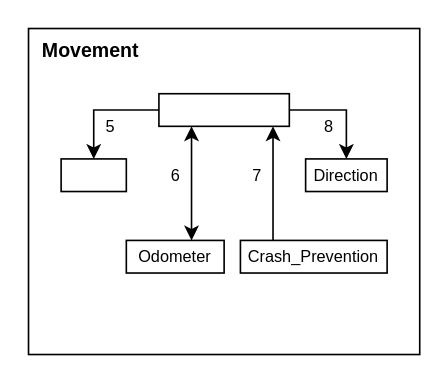
The diagram is 448 pixels wide and 383 high, and some of its shapes have lost their labels. The centre of each missing label's shape, as x and y in pixels:
Motor_Control: the point at 223,109
Speed: the point at 92,174
